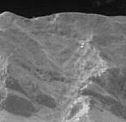Target: (73, 38, 91, 49)
